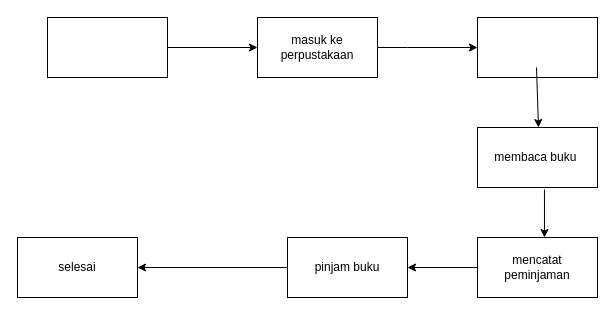
Image size: 615x315. Some labels were removed from this diagram. The centre of each missing label's shape, as x and y in pixels:
mengisi daftar: (537,47)
user: (107,47)
